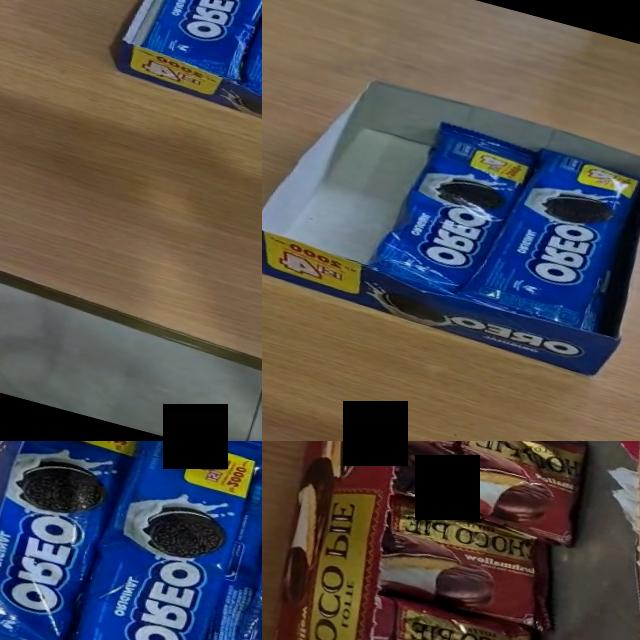Chocopie: (370, 494, 572, 636), (383, 441, 599, 548), (350, 587, 553, 640)
Oreo: (453, 134, 640, 336), (76, 441, 262, 640), (364, 111, 538, 309), (0, 441, 135, 640), (135, 0, 262, 86)
